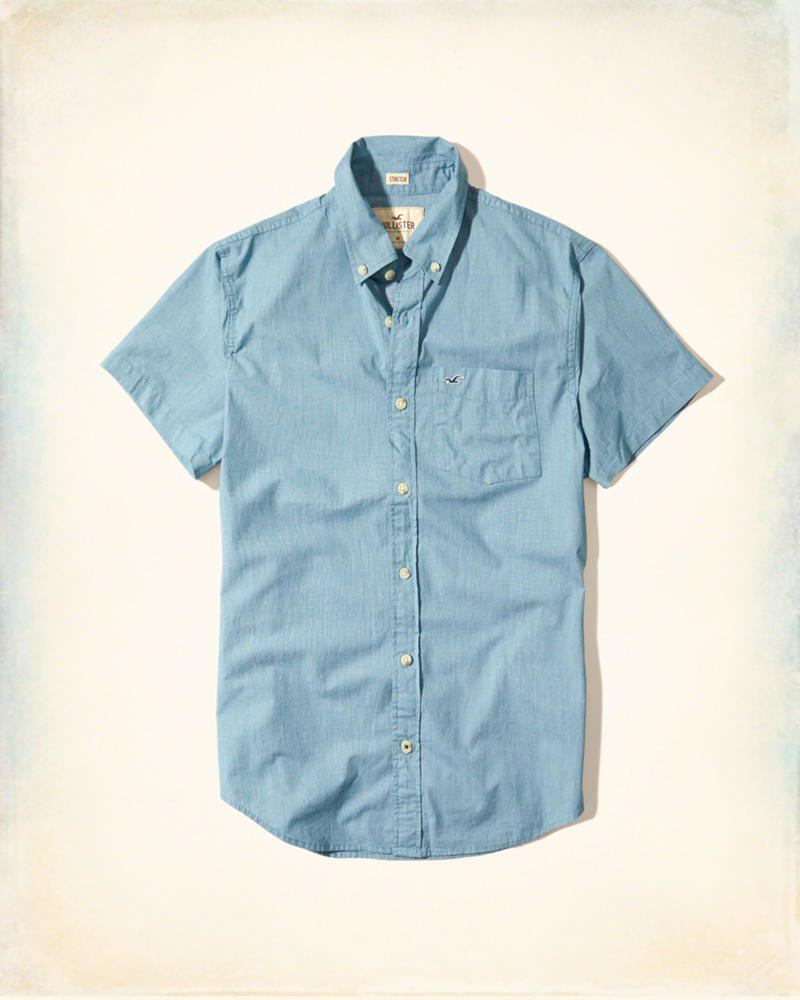teeshirt: (88, 127, 720, 869)
